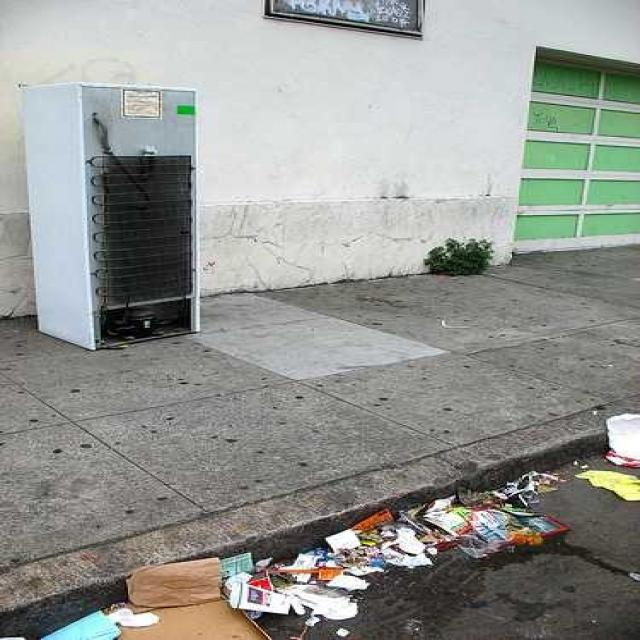refrigerator: (24, 83, 201, 349)
